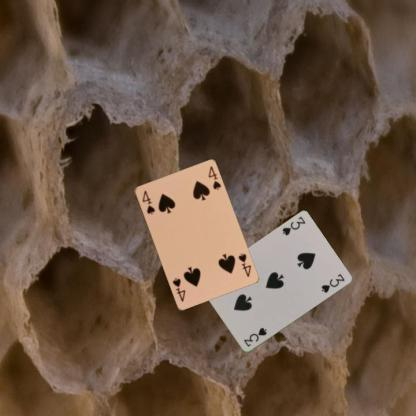3s: (280, 214, 307, 237), (241, 326, 268, 348)
4s: (235, 250, 252, 278), (139, 188, 156, 215)
